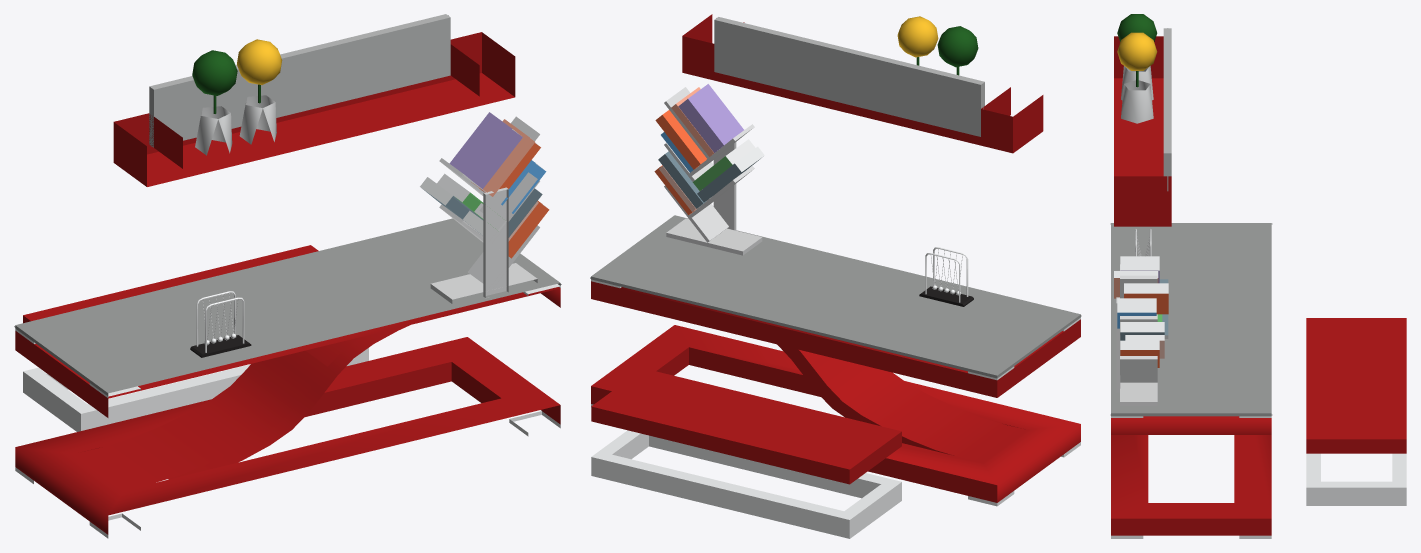
Rendered from M_BRshuzhuo04.FBX.
3 views of the same model, side by side, from view 1: azimuth 30°, elevation 25°; view 2: azimuth 150°, elevation 25°; view 3: azimuth 270°, elevation 25° (orthographic). The views are drawn at different scales.
Visible parts, largest first — view 1: M_BRshuzhuo04_01, M_BRshuzhuo04_02, M_BRshuzhuo04_03, M_BRshuzhuo04_04; view 2: M_BRshuzhuo04_01, M_BRshuzhuo04_02, M_BRshuzhuo04_03, M_BRshuzhuo04_05, M_BRshuzhuo04_04; view 3: M_BRshuzhuo04_01, M_BRshuzhuo04_02, M_BRshuzhuo04_03, M_BRshuzhuo04_05.
Part boxes in pixels (<box>): M_BRshuzhuo04_01: <box>15,32,560,538</box>; M_BRshuzhuo04_02: <box>15,14,560,395</box>; M_BRshuzhuo04_03: <box>192,39,549,258</box>; M_BRshuzhuo04_04: <box>196,291,244,352</box>; M_BRshuzhuo04_01: <box>591,14,1080,538</box>; M_BRshuzhuo04_02: <box>591,17,1080,378</box>; M_BRshuzhuo04_03: <box>654,16,978,215</box>; M_BRshuzhuo04_05: <box>590,18,1081,377</box>; M_BRshuzhuo04_04: <box>925,247,968,302</box>; M_BRshuzhuo04_01: <box>1111,36,1406,538</box>; M_BRshuzhuo04_02: <box>1111,28,1271,416</box>; M_BRshuzhuo04_03: <box>1114,14,1168,367</box>; M_BRshuzhuo04_05: <box>1110,28,1272,415</box>.
Bounding box in the file's own units: 3.09 × 2.9 × 2.03.
